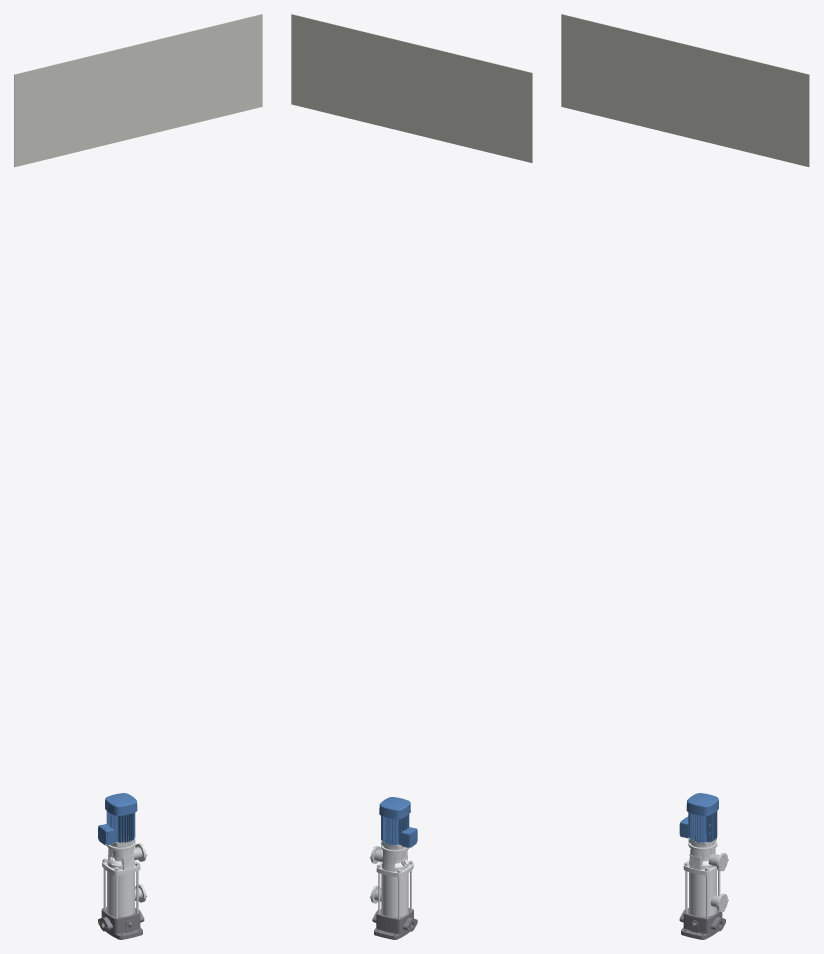
File: Pump_Model.glb
The picture shows the model from 3 angles, left to right: view 1: azimuth 30°, elevation 25°; view 2: azimuth 150°, elevation 25°; view 3: azimuth 330°, elevation 25°; orthographic projection. The views are drawn at different scales.
Visible parts, largest first — view 1: Pump_Nameplate, Pump_Body, Pump_Motor, Pump_Base; view 2: Pump_Nameplate, Pump_Body, Pump_Motor, Pump_Base; view 3: Pump_Nameplate, Pump_Body, Pump_Motor, Pump_Base, Pump_Flange.
Part boxes in pixels (left/top/right/bottom): Pump_Nameplate: left=14, top=14, right=262, bottom=166; Pump_Body: left=102, top=848, right=140, bottom=918; Pump_Motor: left=98, top=793, right=137, bottom=844; Pump_Base: left=98, top=907, right=144, bottom=939; Pump_Nameplate: left=291, top=14, right=532, bottom=162; Pump_Body: left=376, top=851, right=413, bottom=918; Pump_Motor: left=379, top=797, right=417, bottom=847; Pump_Base: left=372, top=908, right=417, bottom=939; Pump_Nameplate: left=561, top=14, right=809, bottom=166; Pump_Body: left=683, top=848, right=720, bottom=918; Pump_Motor: left=679, top=793, right=718, bottom=843; Pump_Base: left=679, top=908, right=725, bottom=939; Pump_Flange: left=680, top=835, right=717, bottom=867.
Bounding box in the file's own units: 1400 × 4850 × 282.
